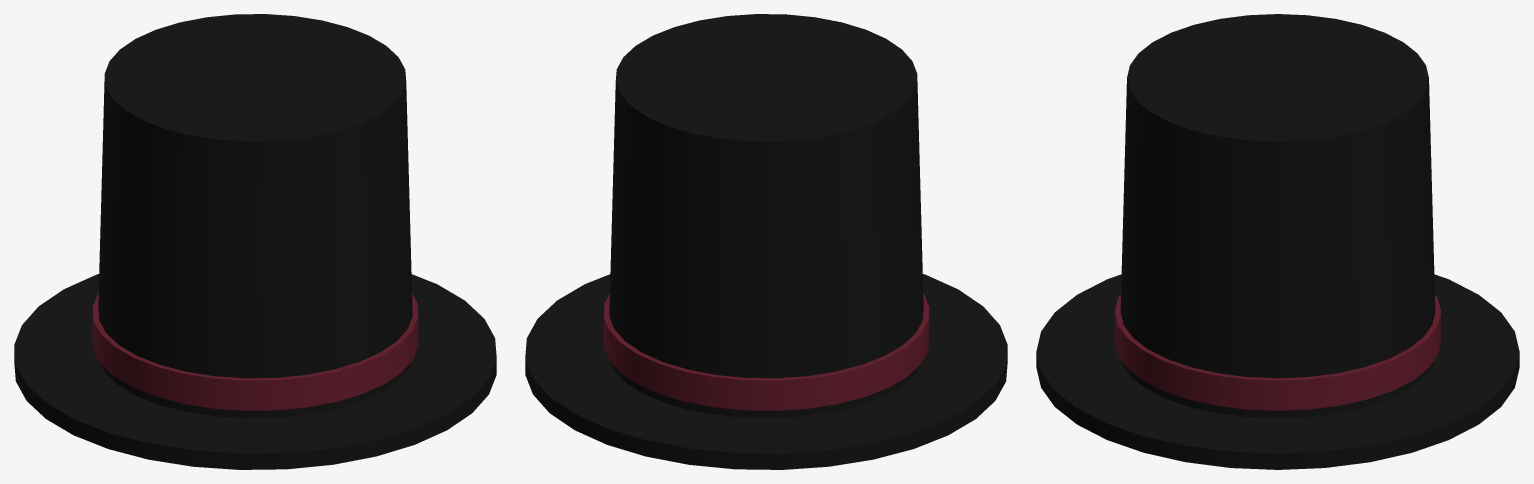
File: top-hat.glb
The picture shows the model from 3 angles, left to right: view 1: azimuth 30°, elevation 25°; view 2: azimuth 150°, elevation 25°; view 3: azimuth 270°, elevation 25°; orthographic projection.
Visible parts, largest first — view 1: top-hat; view 2: top-hat; view 3: top-hat.
Boxes of the visible parts, box(x1,y1,x2,y2) form: top-hat: box(14, 14, 496, 469); top-hat: box(525, 14, 1007, 469); top-hat: box(1036, 14, 1519, 469).
Bounding box in the file's own units: 0.32 × 0.212 × 0.32.
